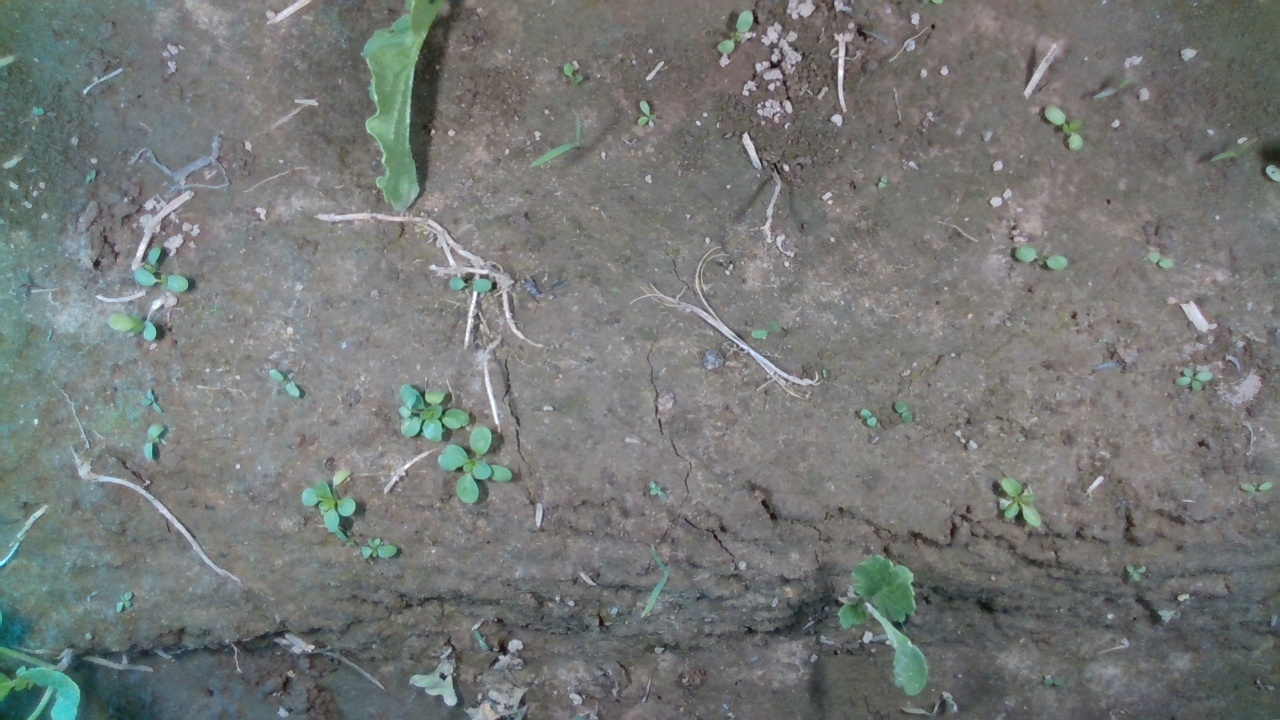weed: (995, 474, 1044, 528), (1041, 103, 1086, 152), (714, 9, 755, 58), (1013, 245, 1070, 272), (133, 267, 190, 294), (106, 312, 158, 341), (1171, 366, 1216, 391), (267, 367, 302, 397), (142, 422, 165, 462), (359, 535, 396, 559), (446, 276, 495, 292), (138, 386, 165, 414), (637, 99, 660, 129), (1144, 250, 1175, 269), (894, 401, 916, 424), (1123, 562, 1148, 582), (1239, 480, 1273, 494), (561, 62, 584, 82), (857, 408, 879, 427), (646, 480, 666, 499), (875, 174, 888, 190)
